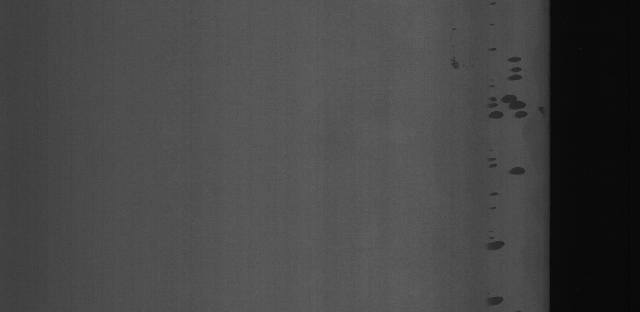oil_spot: (485, 85, 536, 128), (480, 148, 507, 216), (447, 25, 469, 78), (501, 45, 531, 83), (484, 3, 502, 60), (483, 230, 508, 262), (483, 287, 504, 312), (511, 166, 530, 180)
